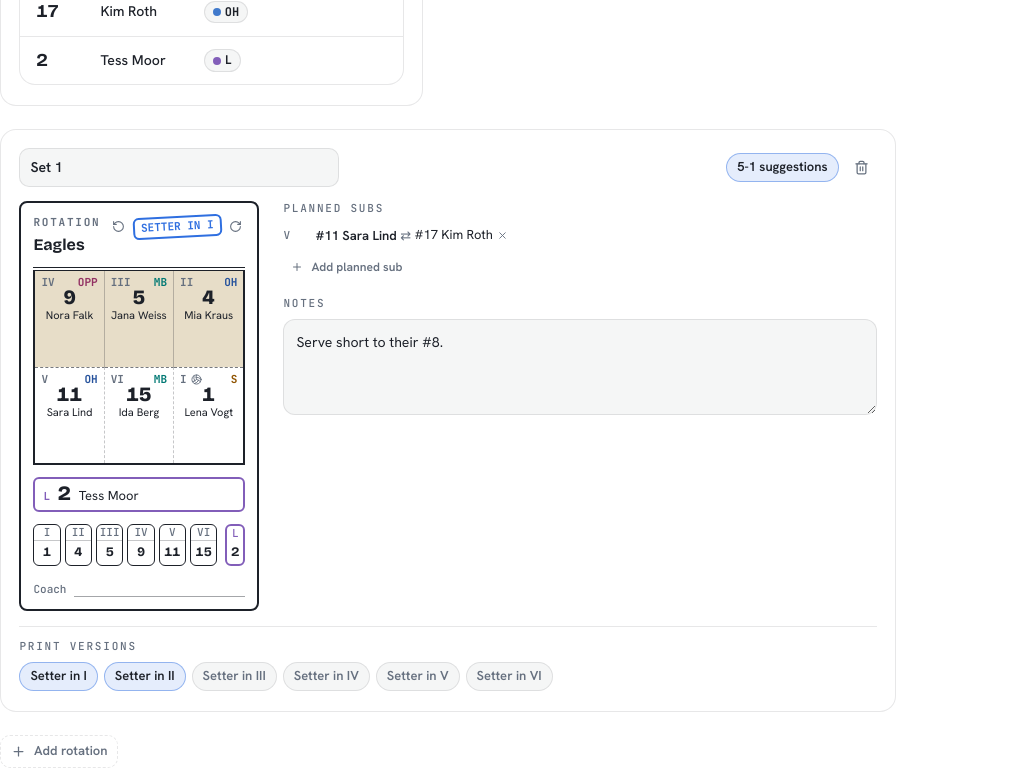
Test: GamePage as a coach › the libero picker offers only players off court
This screenshot has width=1024, height=768.
(page scrolled)
Step 1. Click the button with aria-label "Libero: #2 Tess Moor" → click(139, 494), box top-left (35, 479), bottom-right (243, 510)
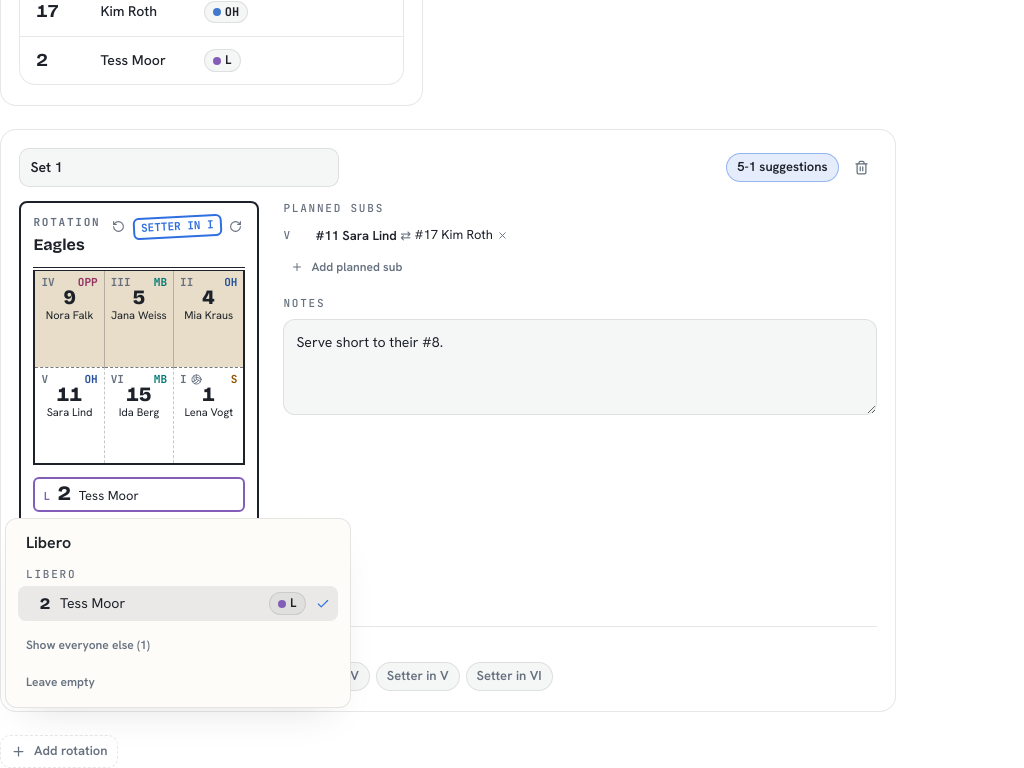
Step 2. Click the button "Show everyone else (1)" → click(88, 646), box top-left (18, 633), bottom-right (158, 658)
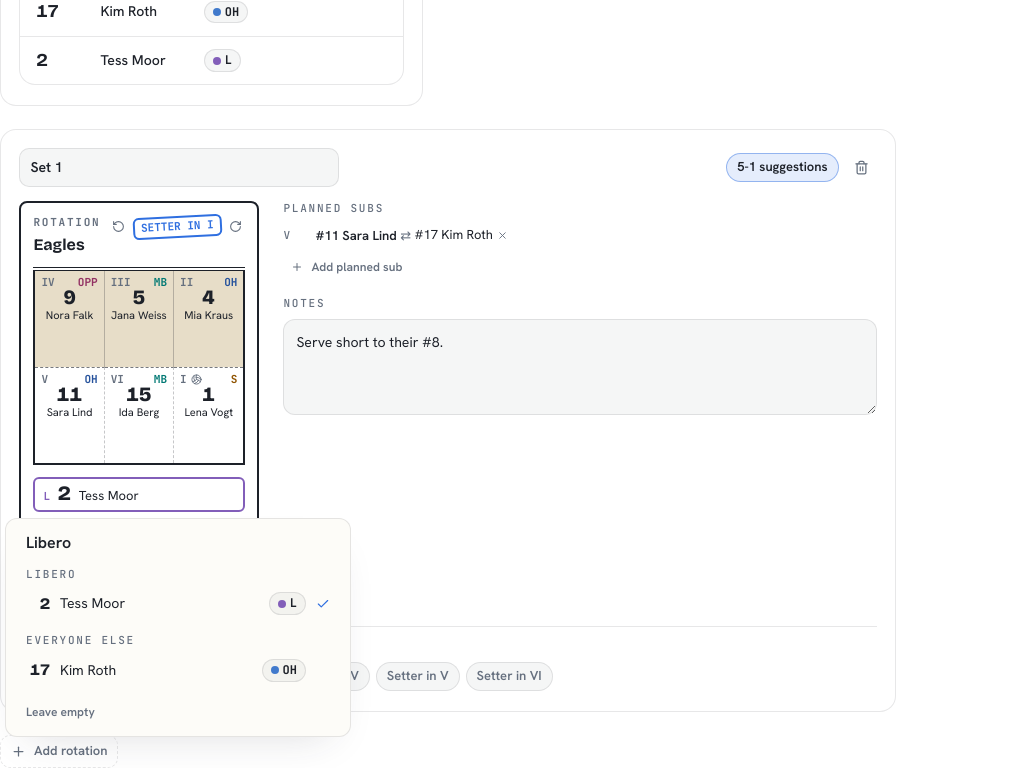
Step 3. Click the button "17 Kim Roth OH" → click(88, 670), box top-left (18, 653), bottom-right (338, 688)
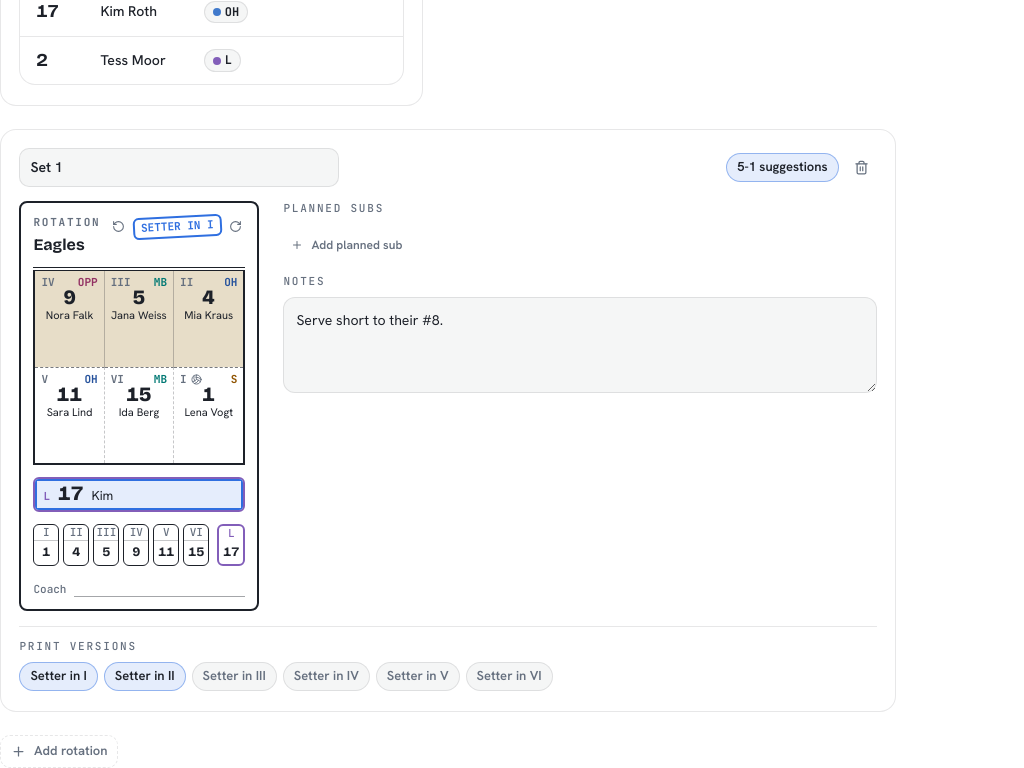
Expected: the button with aria-label "Libero: #17 Kim Roth" is shown, top-left (35, 479), bottom-right (243, 510)
